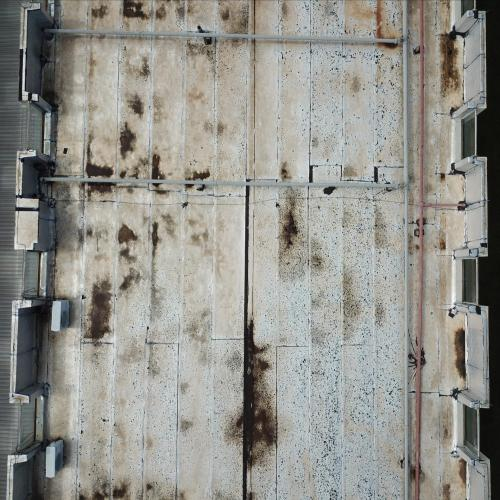conde: (45, 437, 68, 482), (50, 299, 74, 334)
